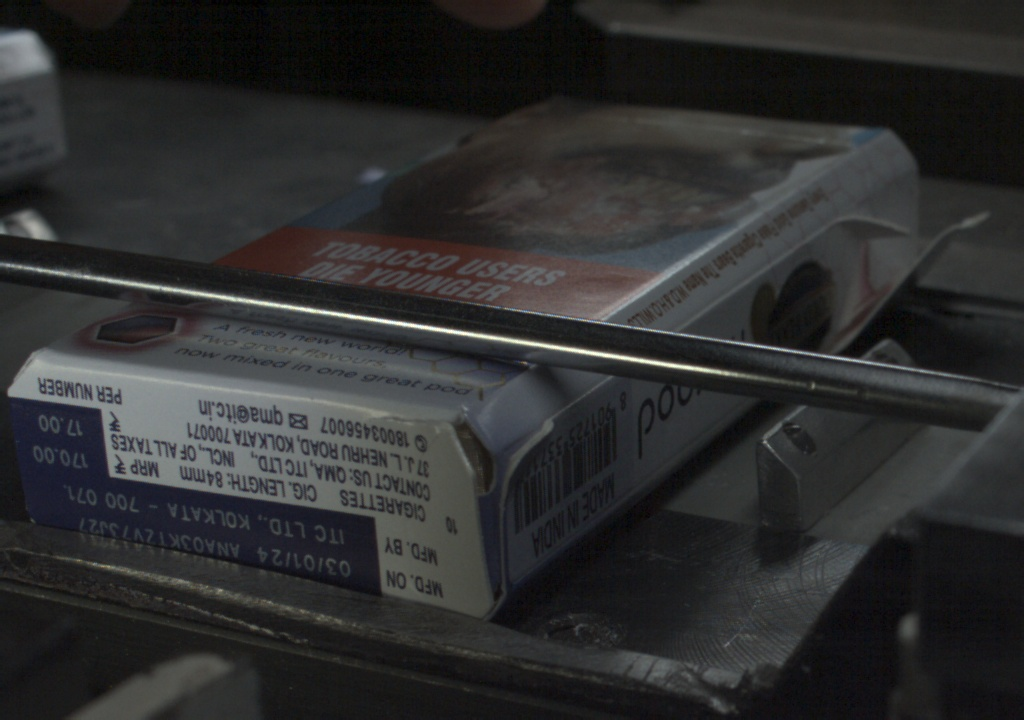g_label: (17, 477, 378, 595)
g_lmiter: (695, 255, 784, 322)
ng_bottom: (442, 404, 499, 609)
ng_lmiter: (495, 419, 554, 493), (835, 206, 906, 259)
ng_miter: (902, 151, 991, 278)
price: (12, 402, 109, 475)
